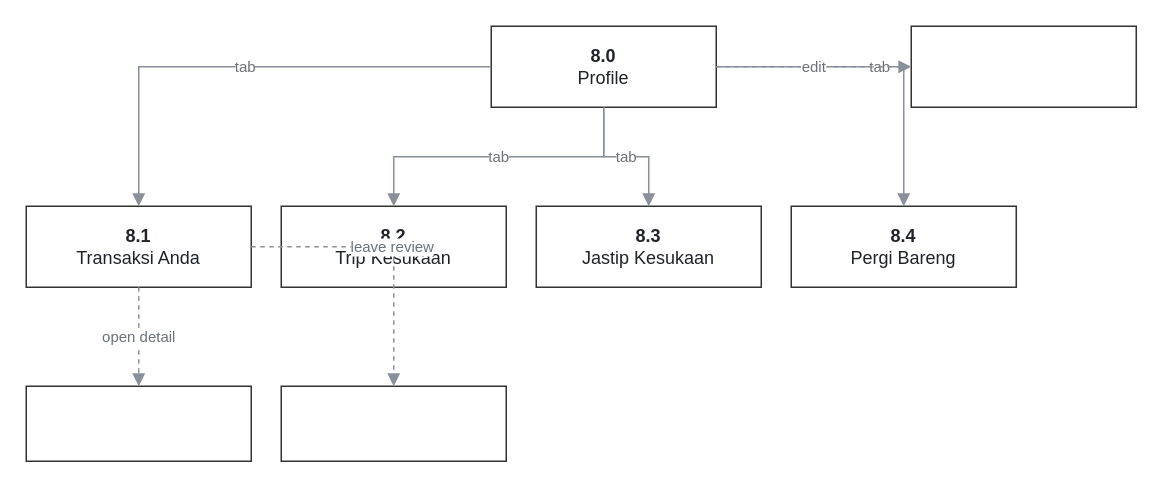
The diagram is 1163 pixels wide and 488 high, and some of its shapes have lost their labels. Here are the shapes that lost their labels. From the top down, the centre of each, then its label:
At [1023,66]: "8.5 Edit Profile".
At [138,423]: "8.1.1 Transaction detail".
At [393,423]: "8.1.2 Ulasan (review)".
